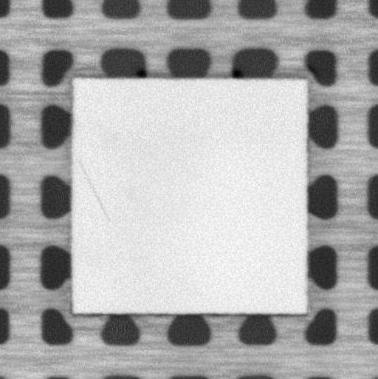DIE_CRACK: (76, 160, 111, 221)
